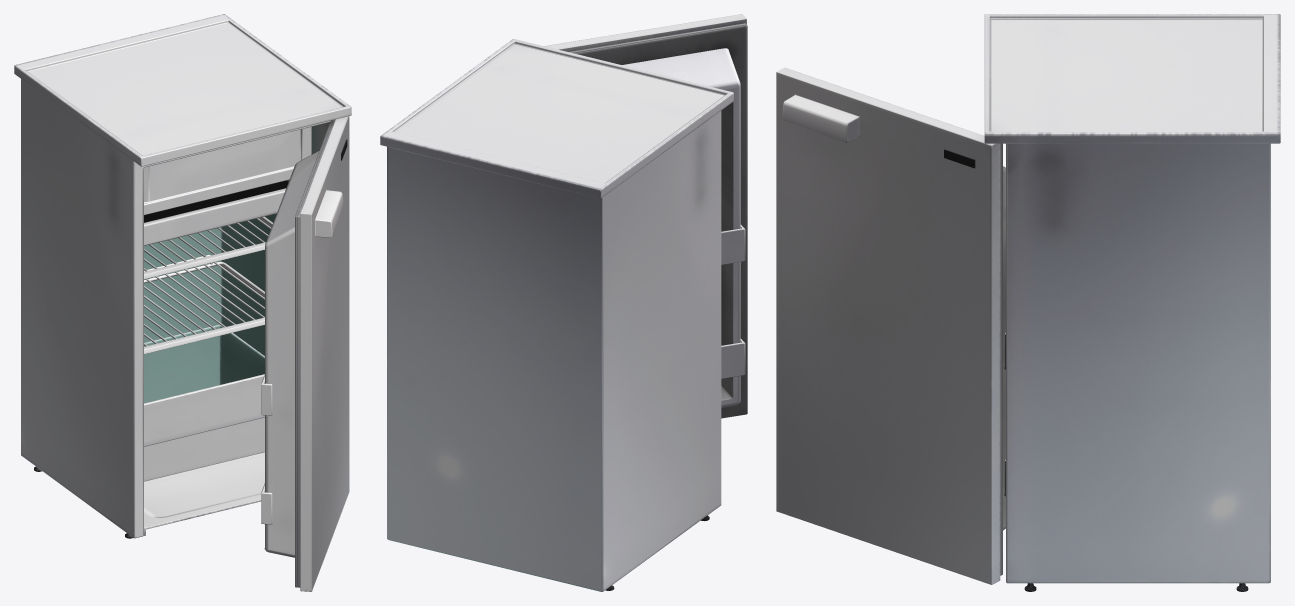
Rendered from frigaro_klein.glb.
The picture shows the model from 3 angles, left to right: view 1: azimuth 30°, elevation 25°; view 2: azimuth 150°, elevation 25°; view 3: azimuth 270°, elevation 25°; orthographic projection. The views are drawn at different scales.
Visible parts, largest first — view 1: frigaro-white; view 2: frigaro-white; view 3: frigaro-white.
Part boxes in pixels (<box>): frigaro-white: <box>14,14,351,591</box>; frigaro-white: <box>380,14,747,591</box>; frigaro-white: <box>776,14,1280,591</box>.
Size of the model in its own units: 0.5213 by 0.9319 by 0.9269.
Materials: 1 (1 with a texture image).
